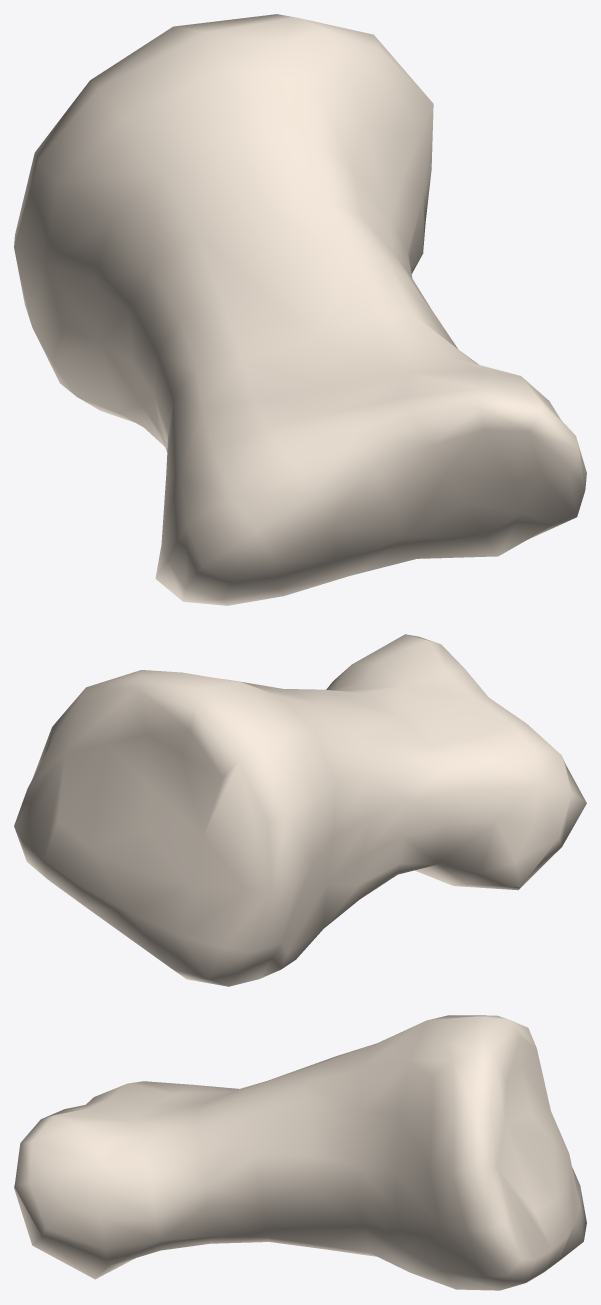
File: right_toe_2_middle.glb
The picture shows the model from 3 angles, top to bottom: view 1: azimuth 30°, elevation 25°; view 2: azimuth 150°, elevation 25°; view 3: azimuth 270°, elevation 25°; orthographic projection. The views are drawn at different scales.
Parts seen in each view (by area): view 1: Middle phalanx of second finger of foot.r; view 2: Middle phalanx of second finger of foot.r; view 3: Middle phalanx of second finger of foot.r.
Part boxes in pixels (left/top/right/bottom): Middle phalanx of second finger of foot.r: left=14, top=14, right=586, bottom=605; Middle phalanx of second finger of foot.r: left=14, top=634, right=586, bottom=986; Middle phalanx of second finger of foot.r: left=14, top=1015, right=586, bottom=1290.
Bounding box in the file's own units: 0.0123 × 0.00881 × 0.0168.
